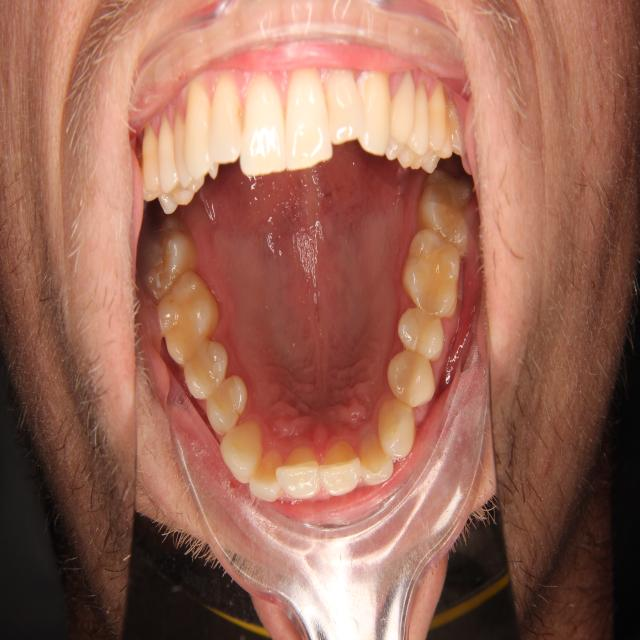tooth: (151, 264, 224, 371), (397, 223, 465, 322), (134, 210, 200, 303), (411, 166, 480, 252), (384, 342, 442, 416), (216, 414, 267, 490), (179, 332, 232, 405), (389, 303, 449, 360), (203, 366, 250, 437), (317, 434, 362, 501), (376, 391, 418, 462), (276, 439, 321, 502), (354, 425, 397, 490), (244, 447, 287, 507)
